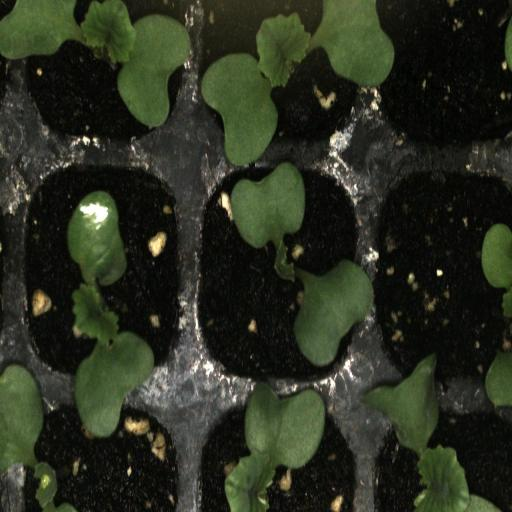Folha: (224, 383, 326, 512), (0, 363, 76, 512), (481, 223, 512, 317)
Germinacao: (194, 160, 363, 394), (21, 161, 194, 386), (20, 0, 196, 158), (197, 0, 364, 160), (366, 393, 512, 512)
